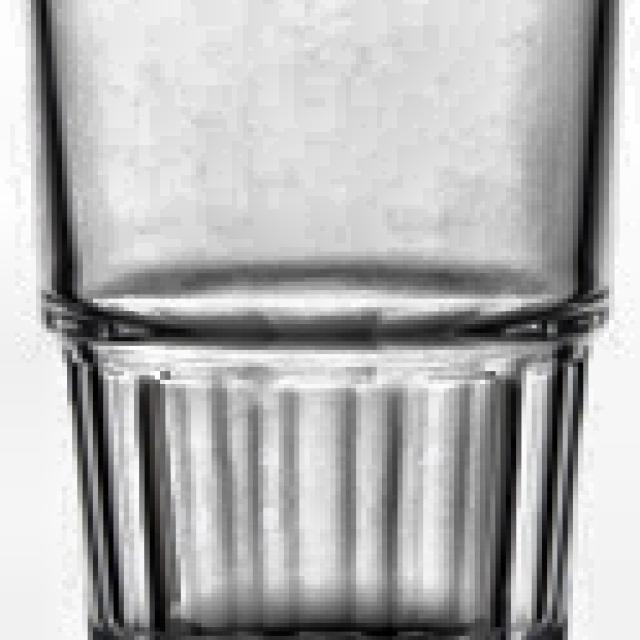glass: (23, 0, 623, 640)
